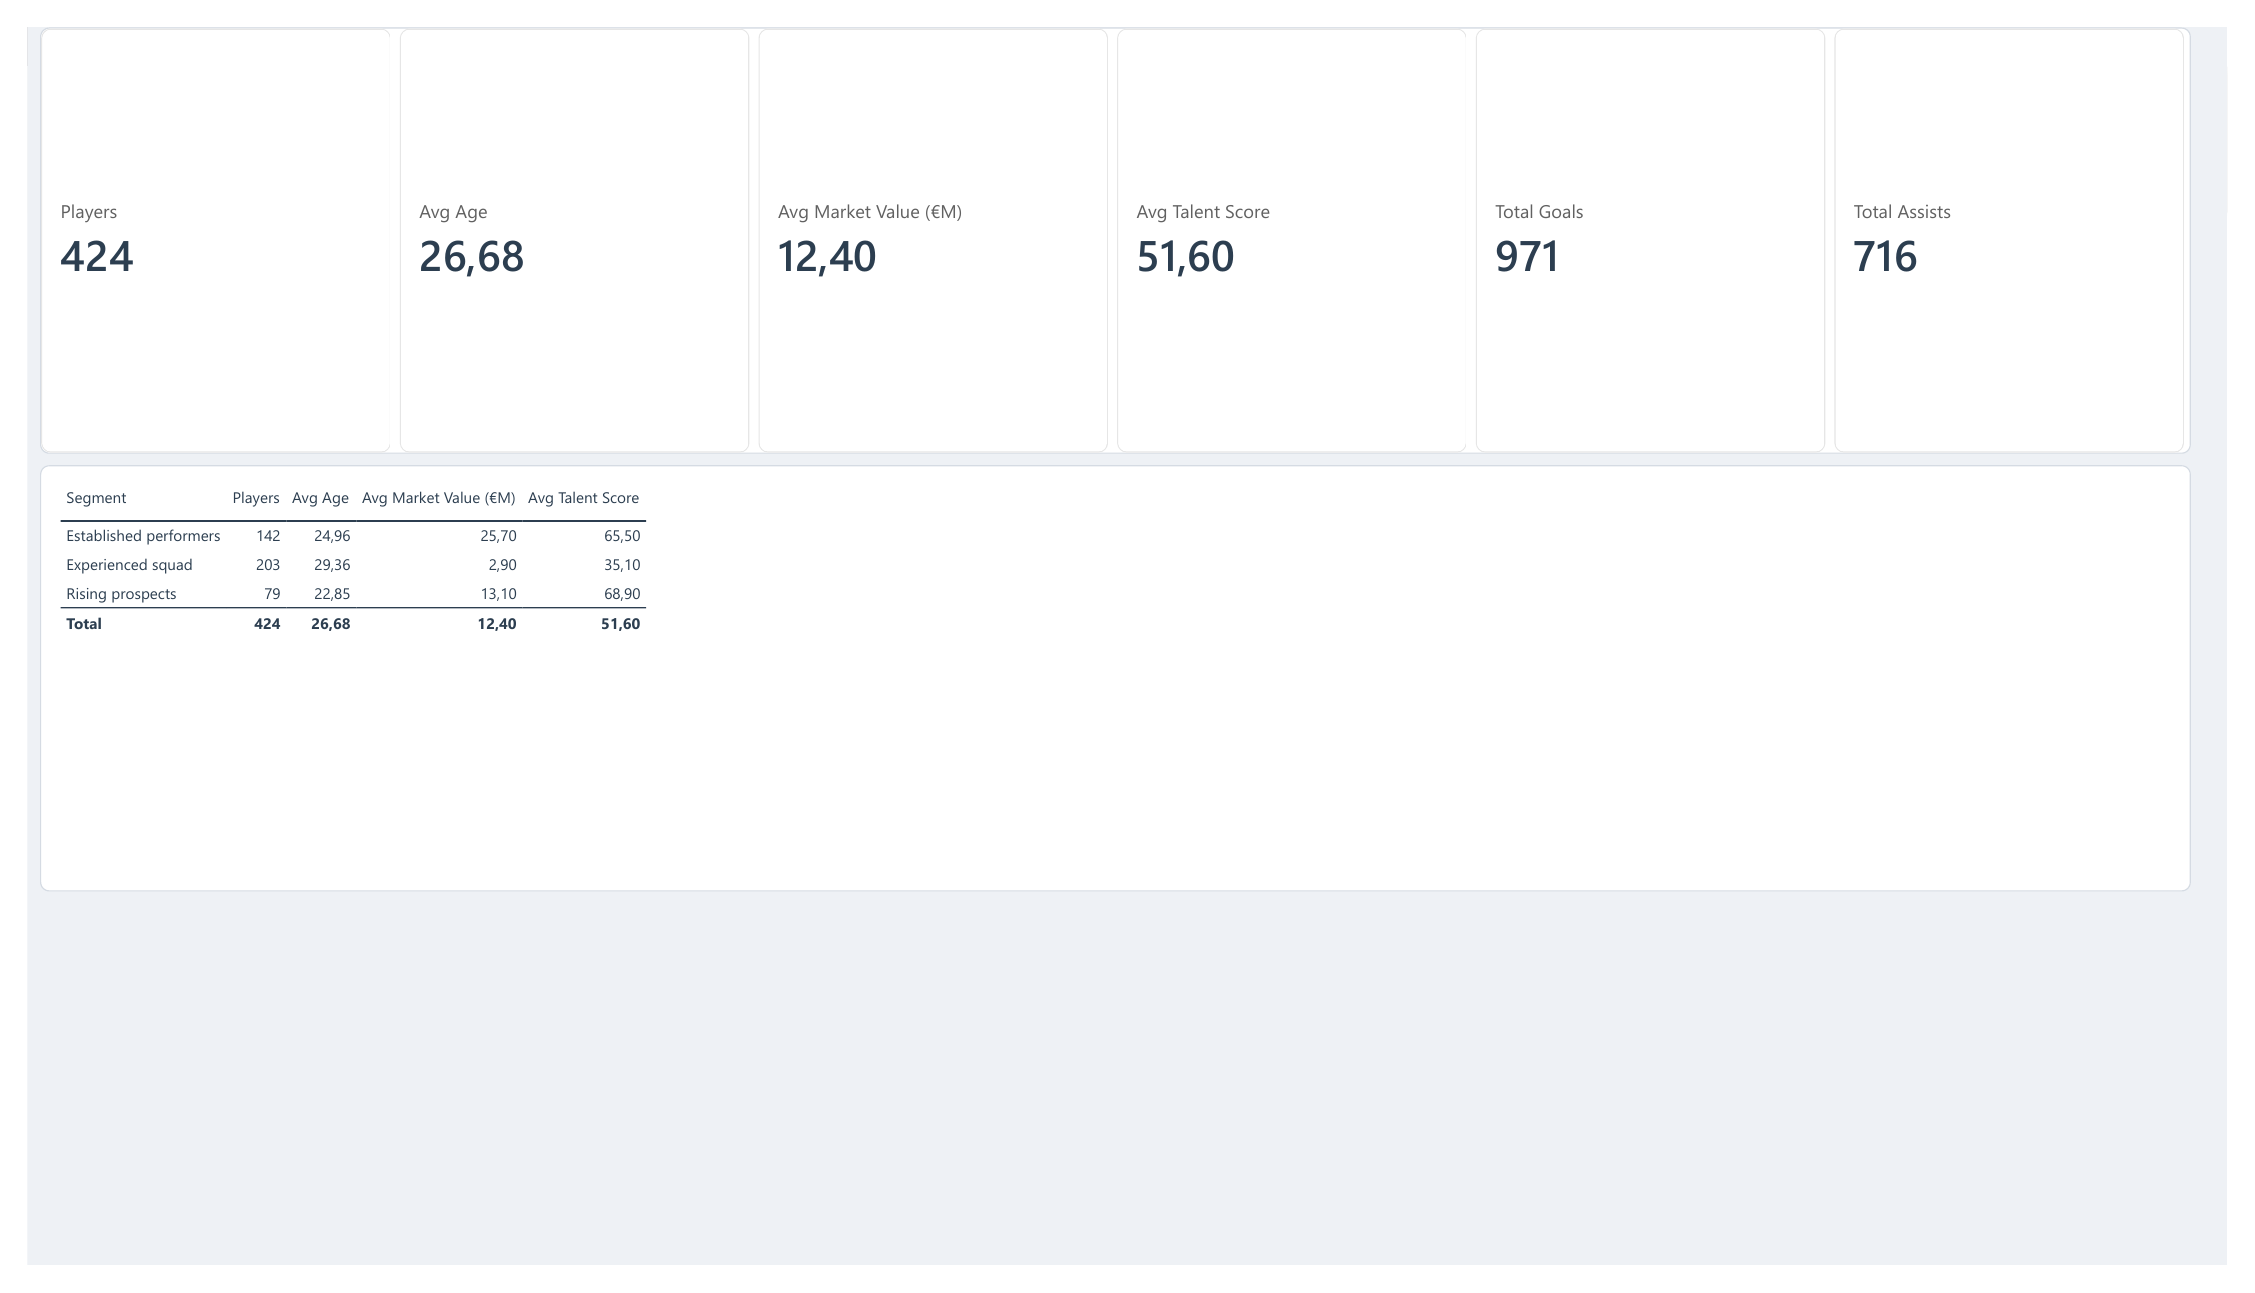

This screenshot's page, from the dashboard's own definition file:
{"tool":"powerbi","page":{"name":"Summary KPIs","canvas":[1920,1080],"ordinal":4},"visuals":[{"type":"cardVisual","fields":{"Data":["players_laliga_real_150.Players","players_laliga_real_150.Avg Age","players_laliga_real_150.Avg Market Value (€M)","players_laliga_real_150.Avg Talent Score","players_laliga_real_150.Total Goals","players_laliga_real_150.Total Assists"]},"box":[10.8,0,1877,371.5],"z":0},{"type":"tableEx","fields":{"Values":["players_laliga_real_150.Segment","players_laliga_real_150.Players","players_laliga_real_150.Avg Age","players_laliga_real_150.Avg Market Value (€M)","players_laliga_real_150.Avg Talent Score"]},"box":[11,382,1877,372],"z":1}]}

Visuals, with their boxes in screenshot pixels (x1, y1, x2, y2), scaled from the page's 1920x1080 canvas onto the 2255x1293 screenshot:
cardVisual - players_laliga_real_150.Players x players_laliga_real_150.Avg Age: region(13, 0, 2217, 445)
tableEx - players_laliga_real_150.Segment x players_laliga_real_150.Players: region(13, 457, 2217, 903)
